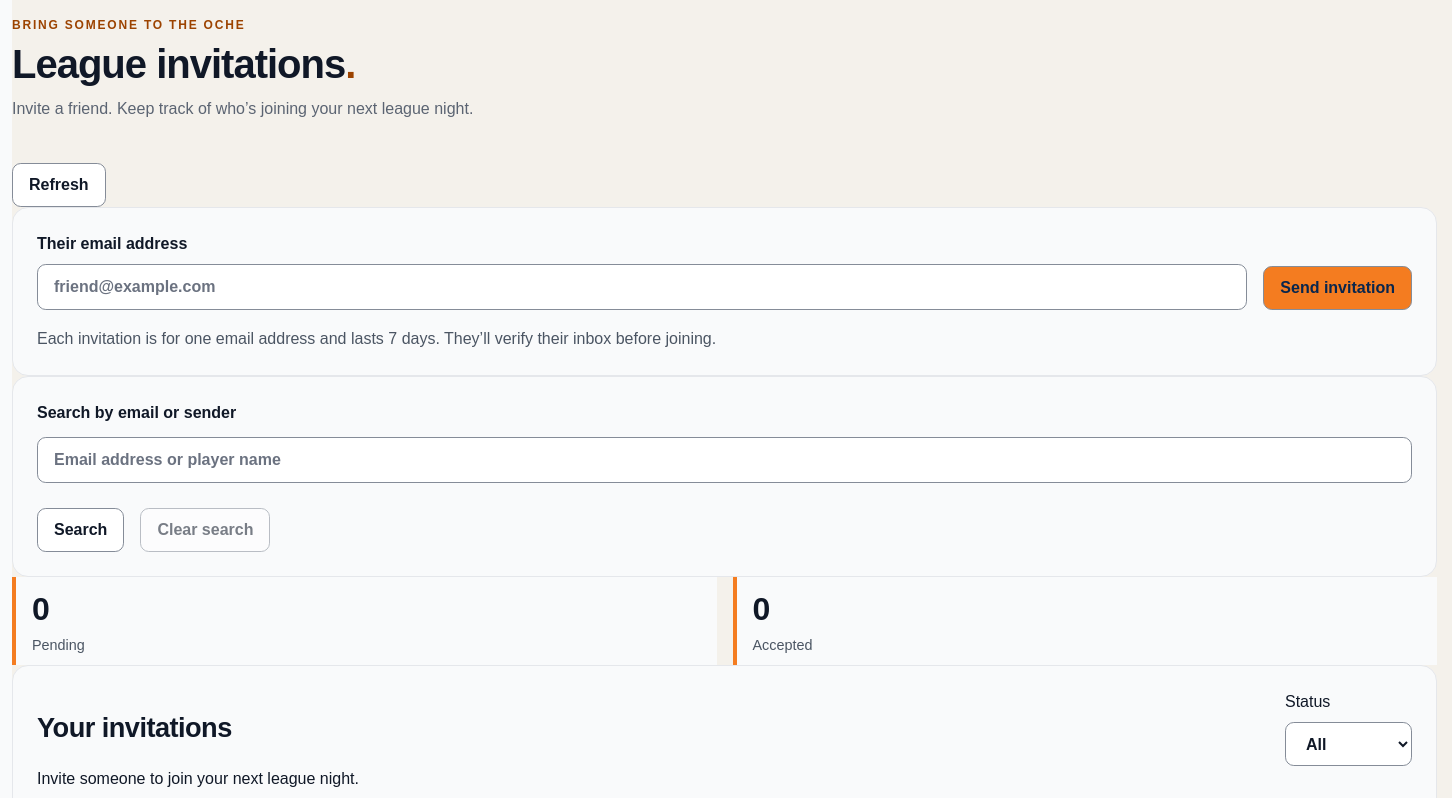
shows a useful empty state and sends the entered address
Expected: the text "Invite someone to join your next league night." is shown, [37, 770, 359, 787]
Step 1. Type "synthetic@example.test" into the field labelled "Their email address" → (642, 287), box [37, 264, 1247, 310]
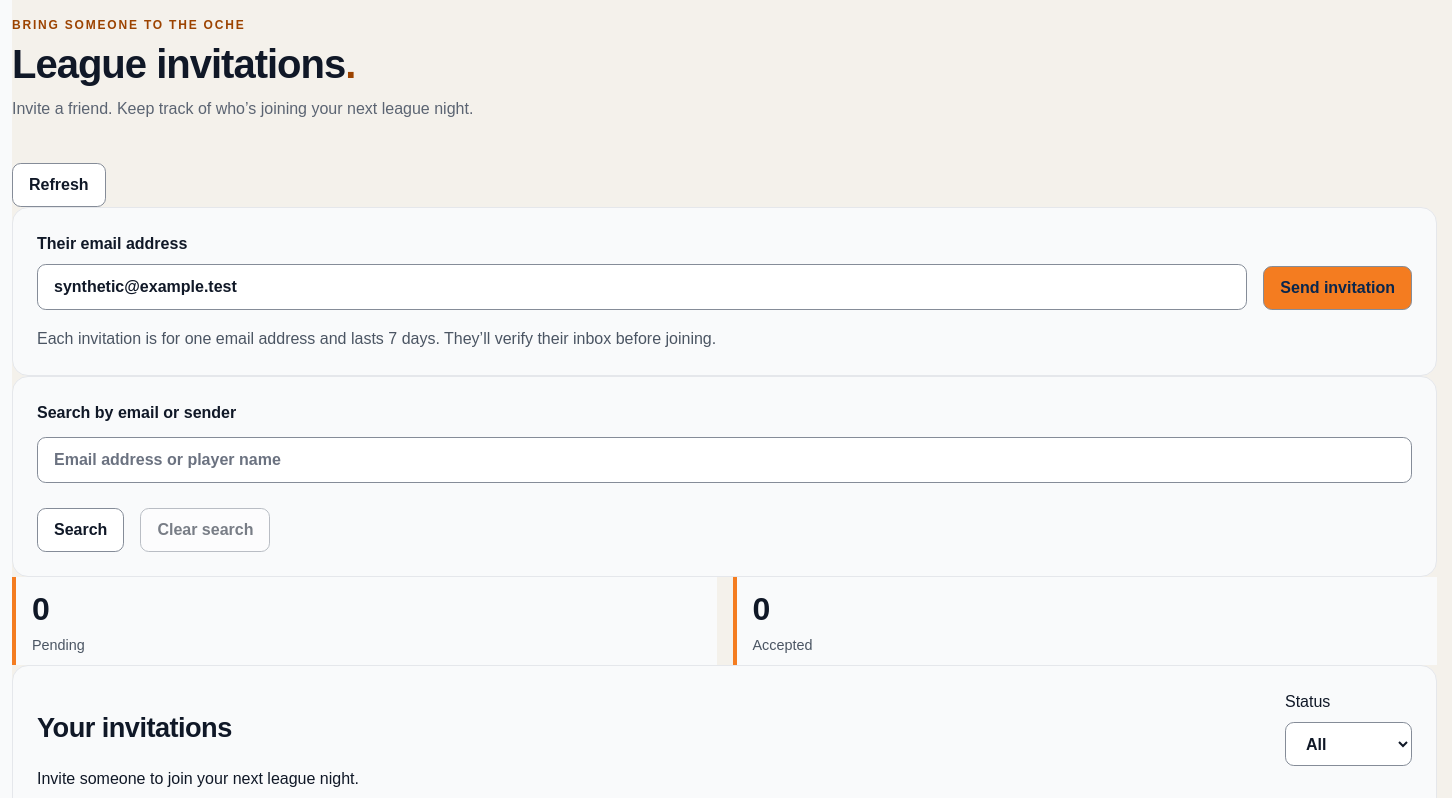
Step 2. Click the button "Send invitation" → (1338, 288), box [1263, 266, 1412, 310]
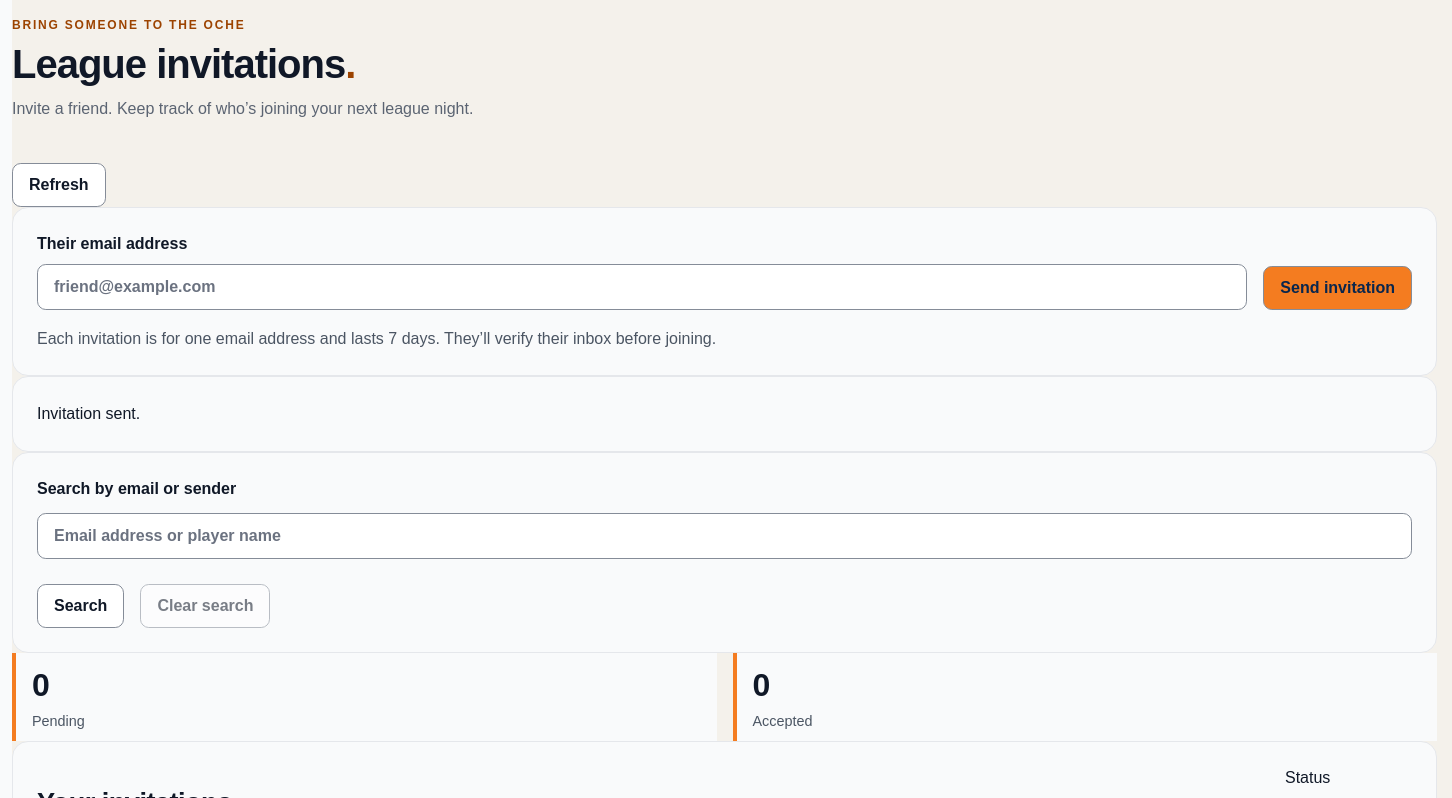
Expected: the text "Invitation sent." is shown, [37, 405, 140, 422]
